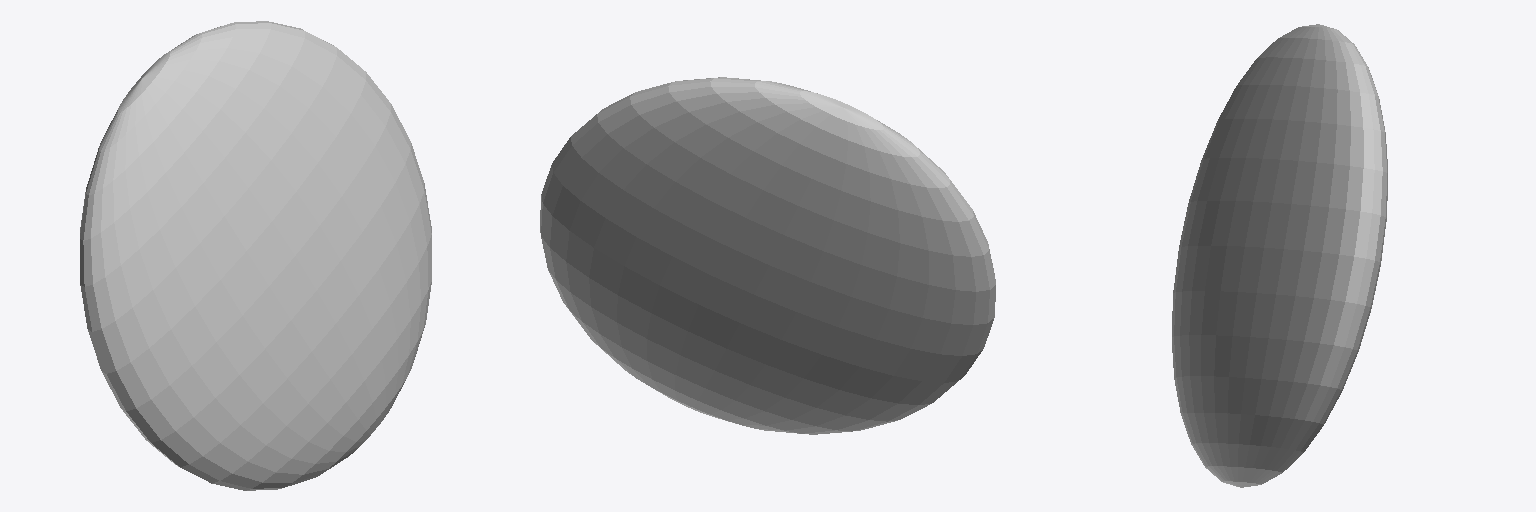
Rendered from smoke.obj.
3 renders of one model, left to right at view 1: azimuth 30°, elevation 25°; view 2: azimuth 150°, elevation 25°; view 3: azimuth 270°, elevation 25°, orthographic.
Visible parts, largest first — view 1: Sphere; view 2: Sphere; view 3: Sphere.
Boxes of the visible parts, x1=… form: Sphere: x1=80, y1=21, x2=431, y2=490; Sphere: x1=540, y1=77, x2=995, y2=434; Sphere: x1=1172, y1=24, x2=1387, y2=487.
Size of the model in its own units: 1.52 by 1.5 by 0.7246.